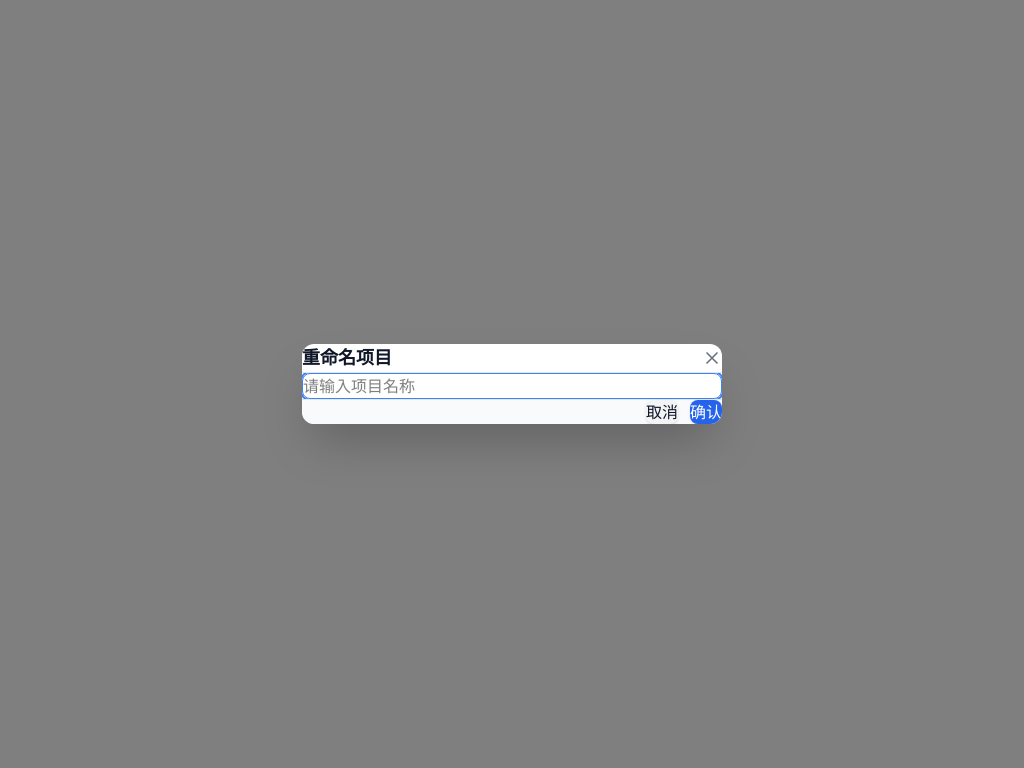
Test: Bug Fix Regression Tests › InputModal - 边界场景处理 › 应该在 validate 函数抛出非 Error 对象时显示通用错误
The width and height of the screenshot is (1024, 768).
Click the button "确认". click: click(706, 412)
box: [690, 400, 722, 424]
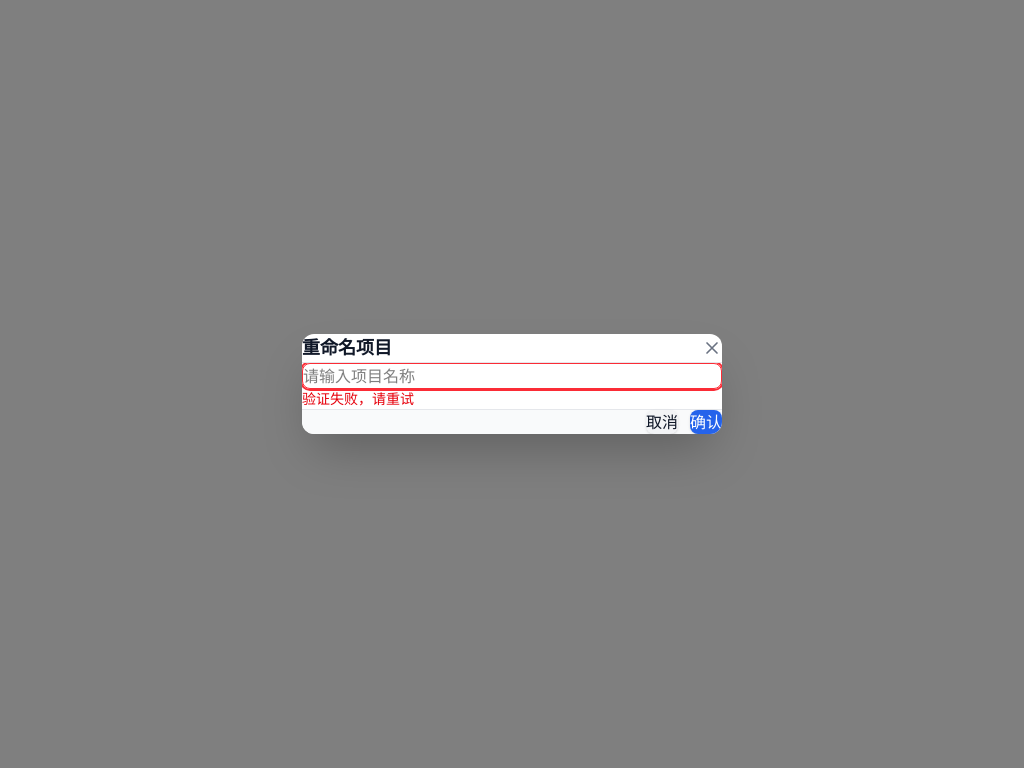
Expected: the text "验证失败" is shown, [302, 390, 414, 407]
